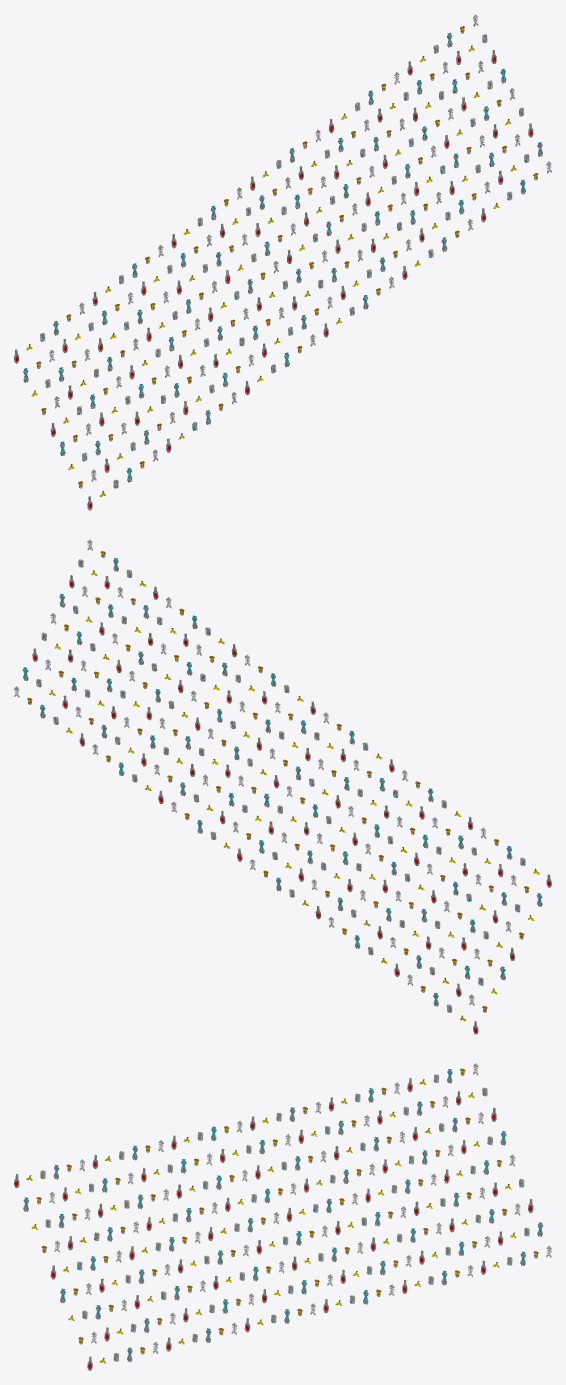
The model's file is TitleRubbishAnim.fbx.
3 renders of one model, top to bottom at view 1: azimuth 30°, elevation 25°; view 2: azimuth 150°, elevation 25°; view 3: azimuth 330°, elevation 25°, orthographic.
Parts seen in each view (by area): view 1: BananaMesh28; view 2: BananaMesh28; view 3: BananaMesh28.
Part boxes in pixels (x1,y1,x2,y2): BananaMesh28: (14, 14, 551, 510); BananaMesh28: (14, 539, 551, 1034); BananaMesh28: (14, 1063, 551, 1370).
Size of the model in its own units: 37.11 by 26.48 by 0.1884.
